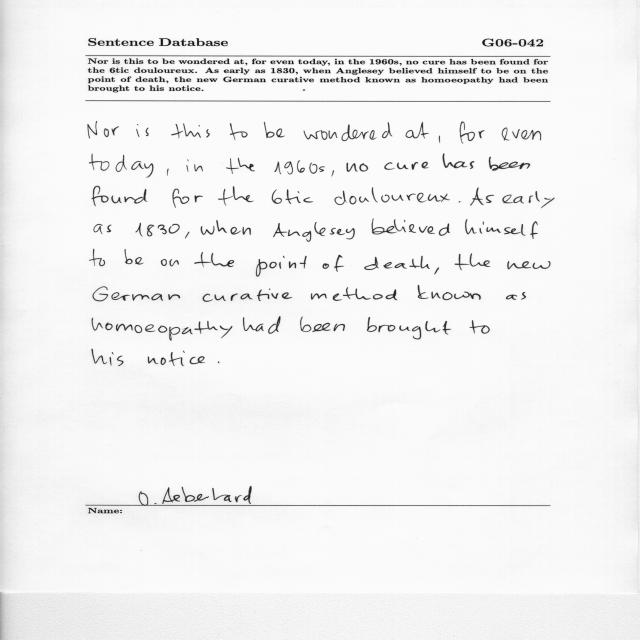word: (93, 318, 233, 341), (334, 187, 450, 205), (367, 317, 451, 339), (304, 122, 393, 141), (273, 222, 355, 242), (90, 154, 154, 178), (465, 219, 538, 239), (372, 219, 450, 236), (93, 287, 180, 302), (311, 287, 397, 301), (203, 289, 292, 302), (92, 186, 147, 206), (256, 256, 307, 277), (418, 285, 481, 300), (364, 256, 430, 270), (503, 191, 555, 208), (148, 351, 205, 366), (201, 220, 251, 235), (218, 186, 254, 206), (300, 316, 345, 332), (274, 161, 325, 175), (243, 316, 281, 334), (172, 188, 203, 208), (272, 189, 313, 204), (194, 252, 234, 267), (455, 253, 490, 270), (171, 124, 210, 139), (489, 157, 530, 171), (459, 122, 485, 144), (136, 223, 180, 236), (88, 122, 119, 139), (92, 349, 123, 366), (502, 128, 541, 141), (443, 154, 475, 169), (226, 158, 255, 174), (470, 188, 494, 206), (406, 122, 429, 138), (384, 162, 429, 170), (323, 255, 344, 272), (508, 261, 551, 269), (264, 122, 285, 138), (230, 123, 248, 140), (125, 249, 144, 265), (470, 320, 490, 334), (90, 249, 105, 266), (186, 159, 203, 172), (347, 163, 368, 172), (94, 224, 111, 234), (136, 124, 149, 137), (506, 292, 526, 300), (161, 259, 179, 267), (185, 232, 190, 239), (434, 268, 439, 275), (167, 169, 169, 176), (332, 170, 334, 177), (439, 135, 440, 143), (459, 201, 461, 203), (218, 362, 219, 363)
